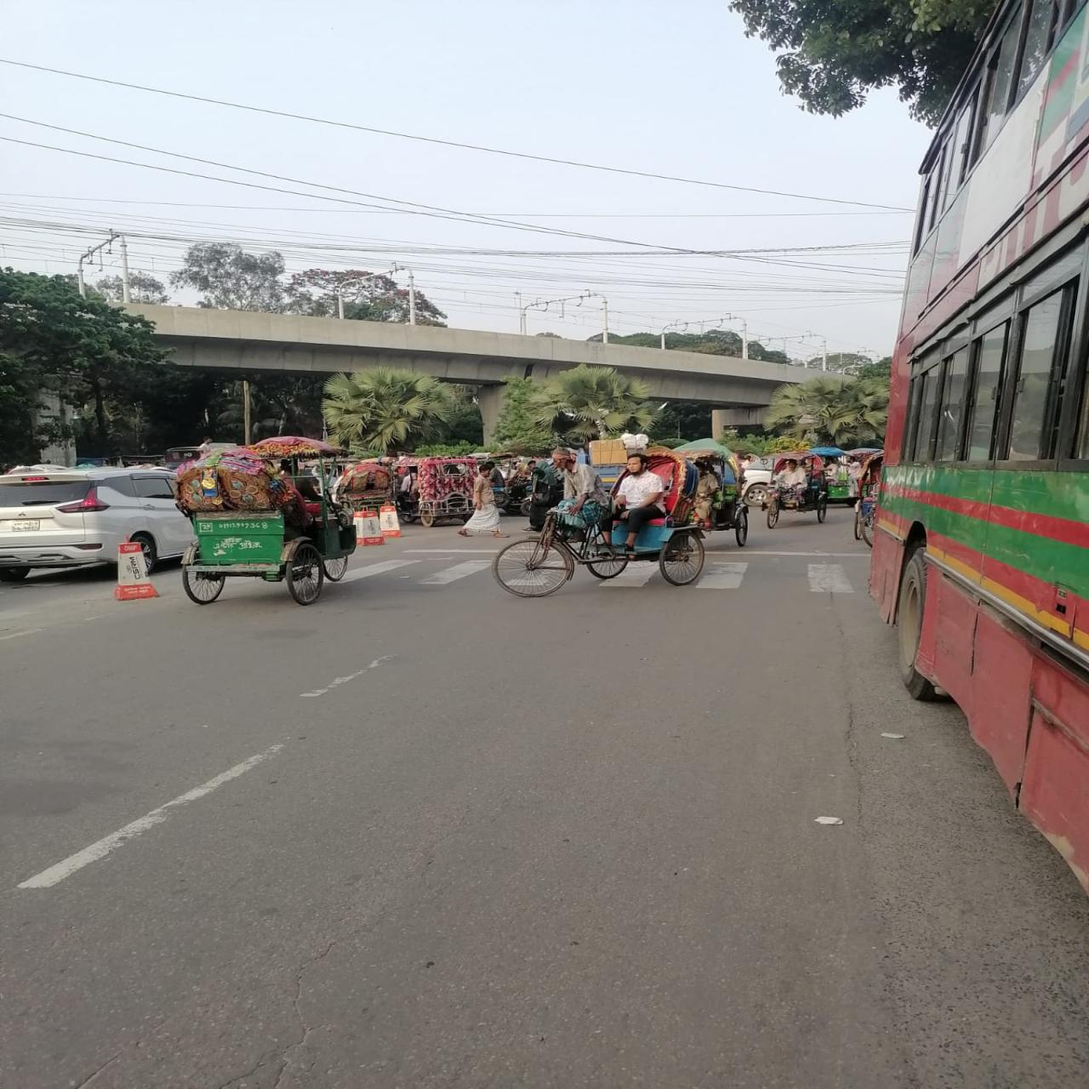person: (464, 461, 502, 538), (527, 463, 550, 525)
